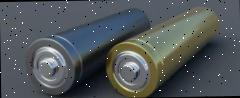electronic: (11, 1, 235, 98)
